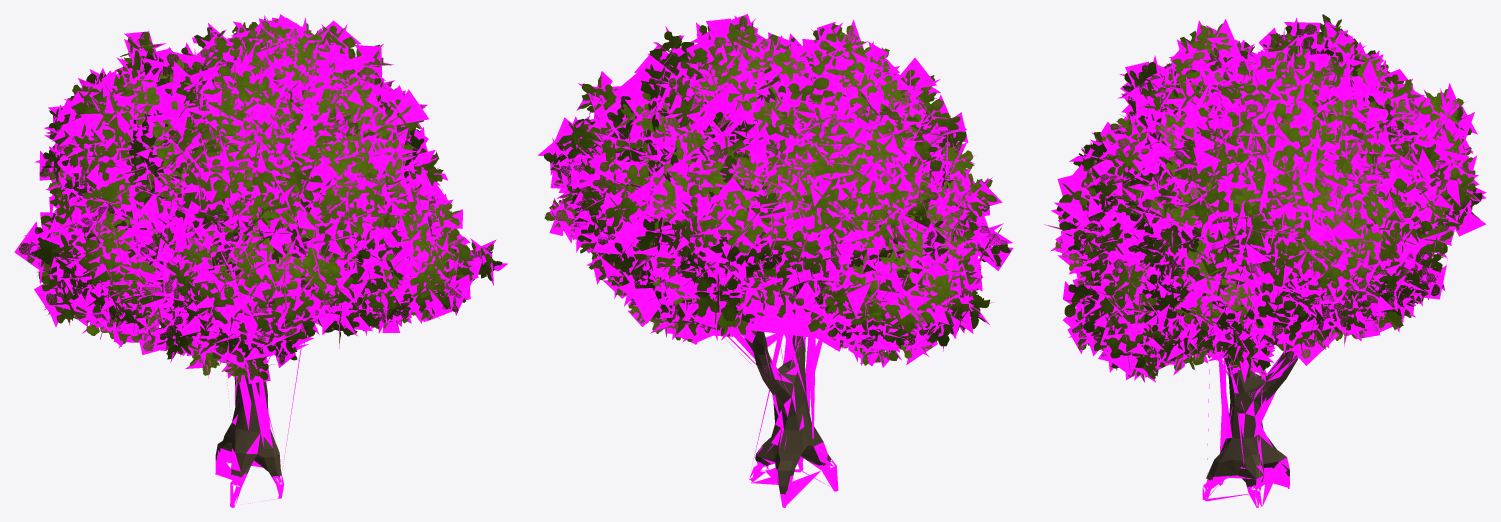
The model's file is SM_Env_Tree_Fruit_01.glb.
3 renders of one model, left to right at view 1: azimuth 30°, elevation 25°; view 2: azimuth 150°, elevation 25°; view 3: azimuth 270°, elevation 25°, orthographic. The views are drawn at different scales.
Parts seen in each view (by area): view 1: SM_Env_Tree_Fruit_01; view 2: SM_Env_Tree_Fruit_01; view 3: SM_Env_Tree_Fruit_01.
Part boxes in pixels (x1=…): SM_Env_Tree_Fruit_01: x1=14, y1=14, x2=507, y2=507; SM_Env_Tree_Fruit_01: x1=538, y1=14, x2=1013, y2=507; SM_Env_Tree_Fruit_01: x1=1044, y1=14, x2=1486, y2=507.
Bounding box in the file's own units: 5.24 × 5.79 × 4.99.
Materials: 2 (1 with a texture image).
